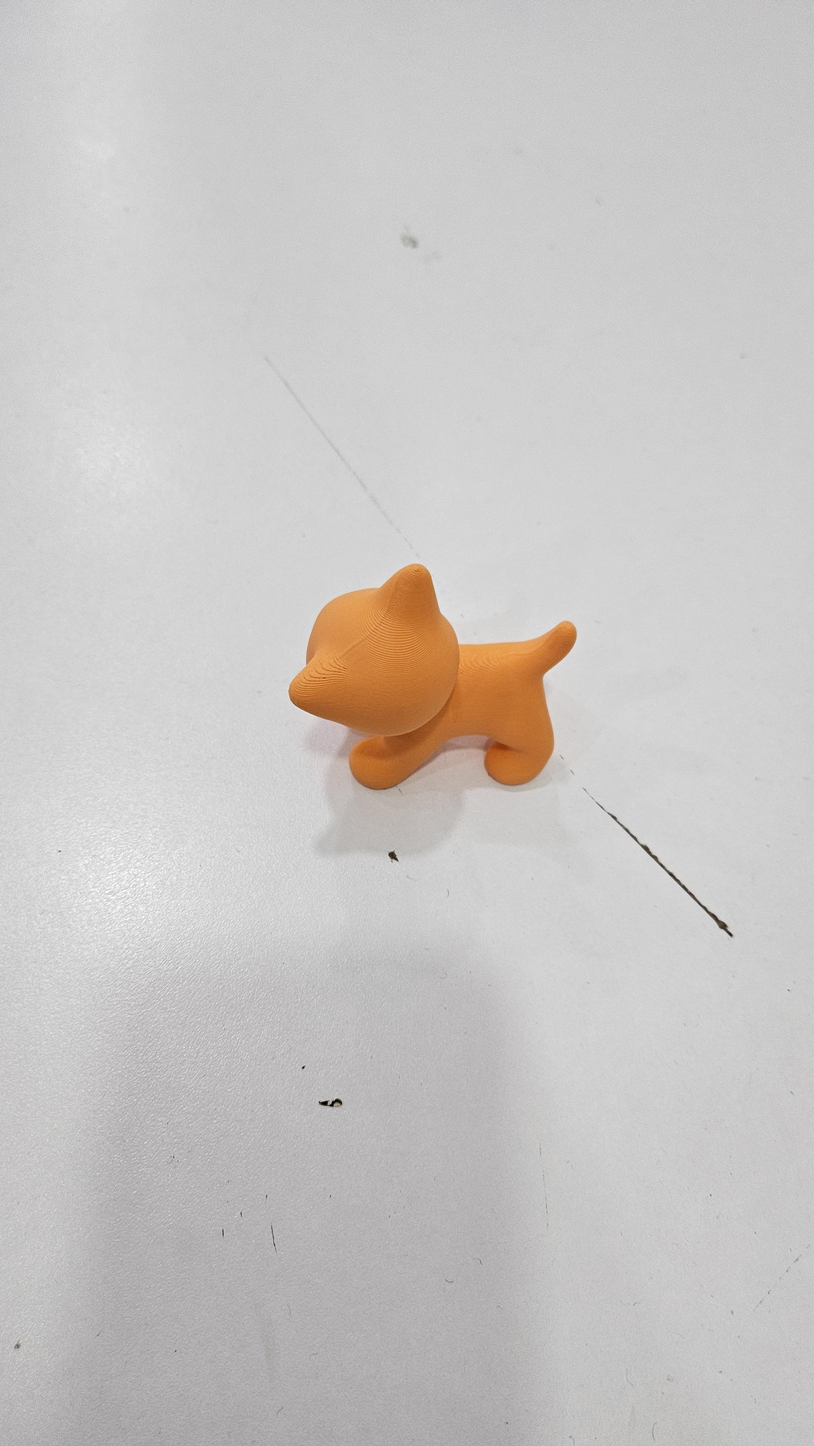cat: (282, 557, 583, 793)
